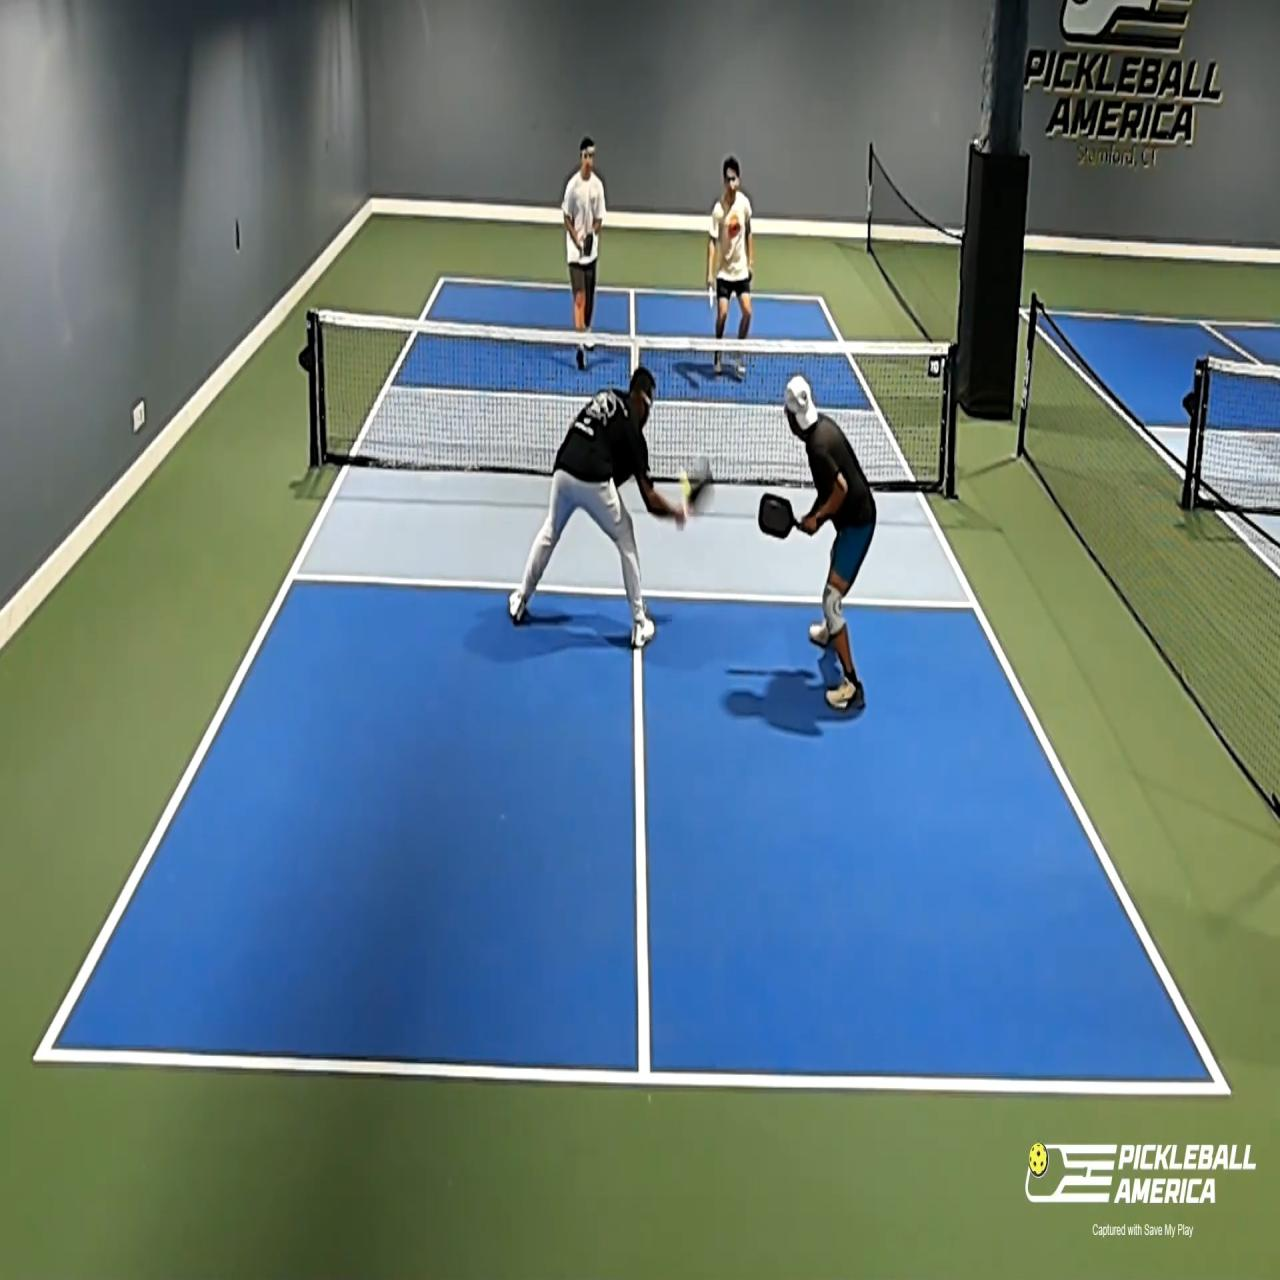Pickleball: (678, 467, 690, 498)
